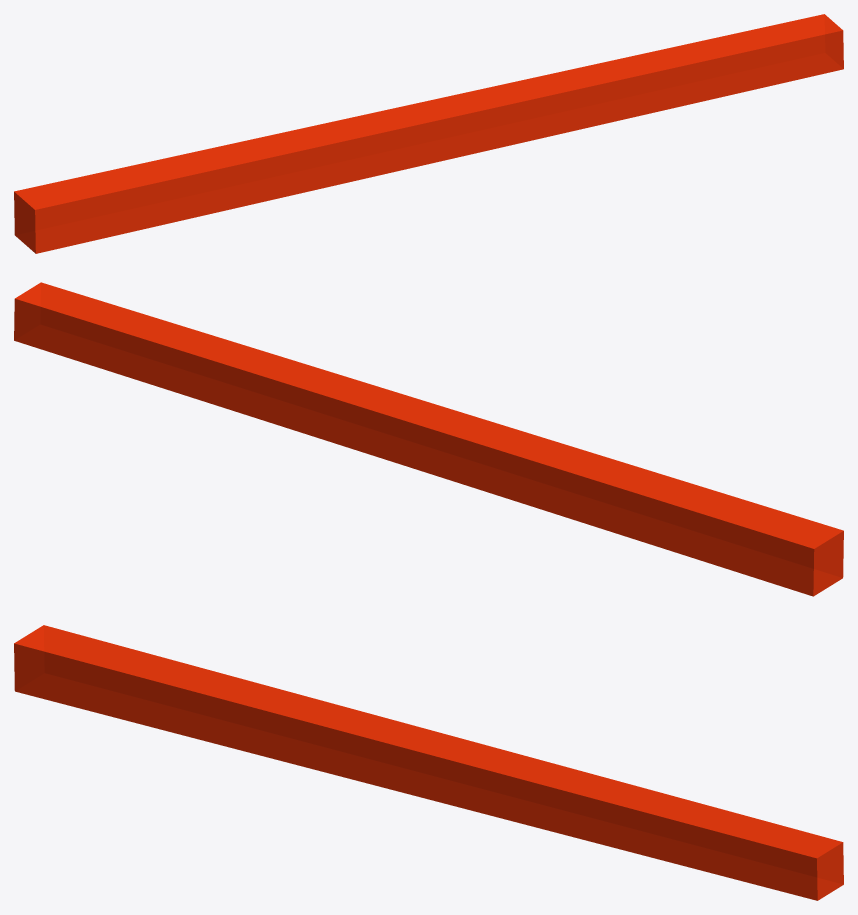
Rendered from Event_421115418_EErechit_32.fbx.
3 views of the same model, one above another, from view 1: azimuth 30°, elevation 25°; view 2: azimuth 150°, elevation 25°; view 3: azimuth 330°, elevation 25° (orthographic). The views are drawn at different scales.
Parts seen in each view (by area): view 1: Model; view 2: Model; view 3: Model.
Boxes of the visible parts, bbox=[...] form: Model: bbox=[14, 14, 843, 253]; Model: bbox=[14, 282, 843, 596]; Model: bbox=[14, 625, 843, 900].
Bounding box in the file's own units: 1.51 × 0.1106 × 0.1958.
